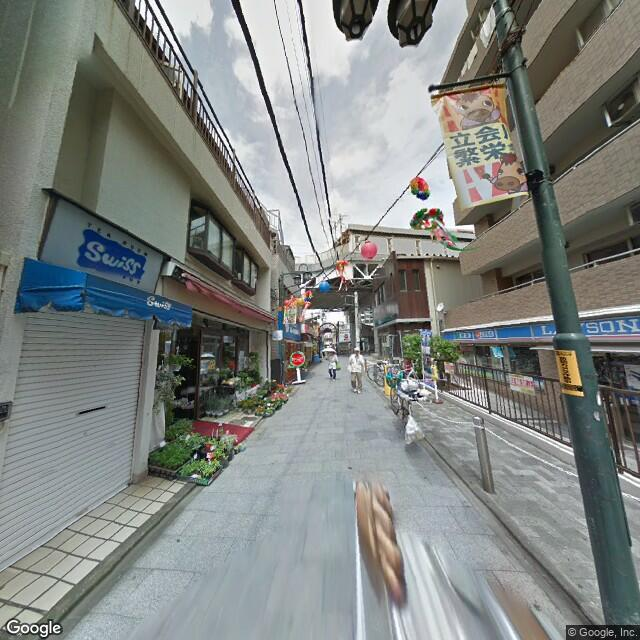lawson: (442, 304, 638, 350)
